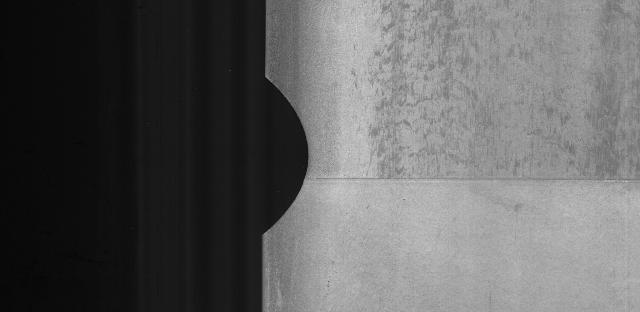welding_line: (295, 165, 640, 195)
